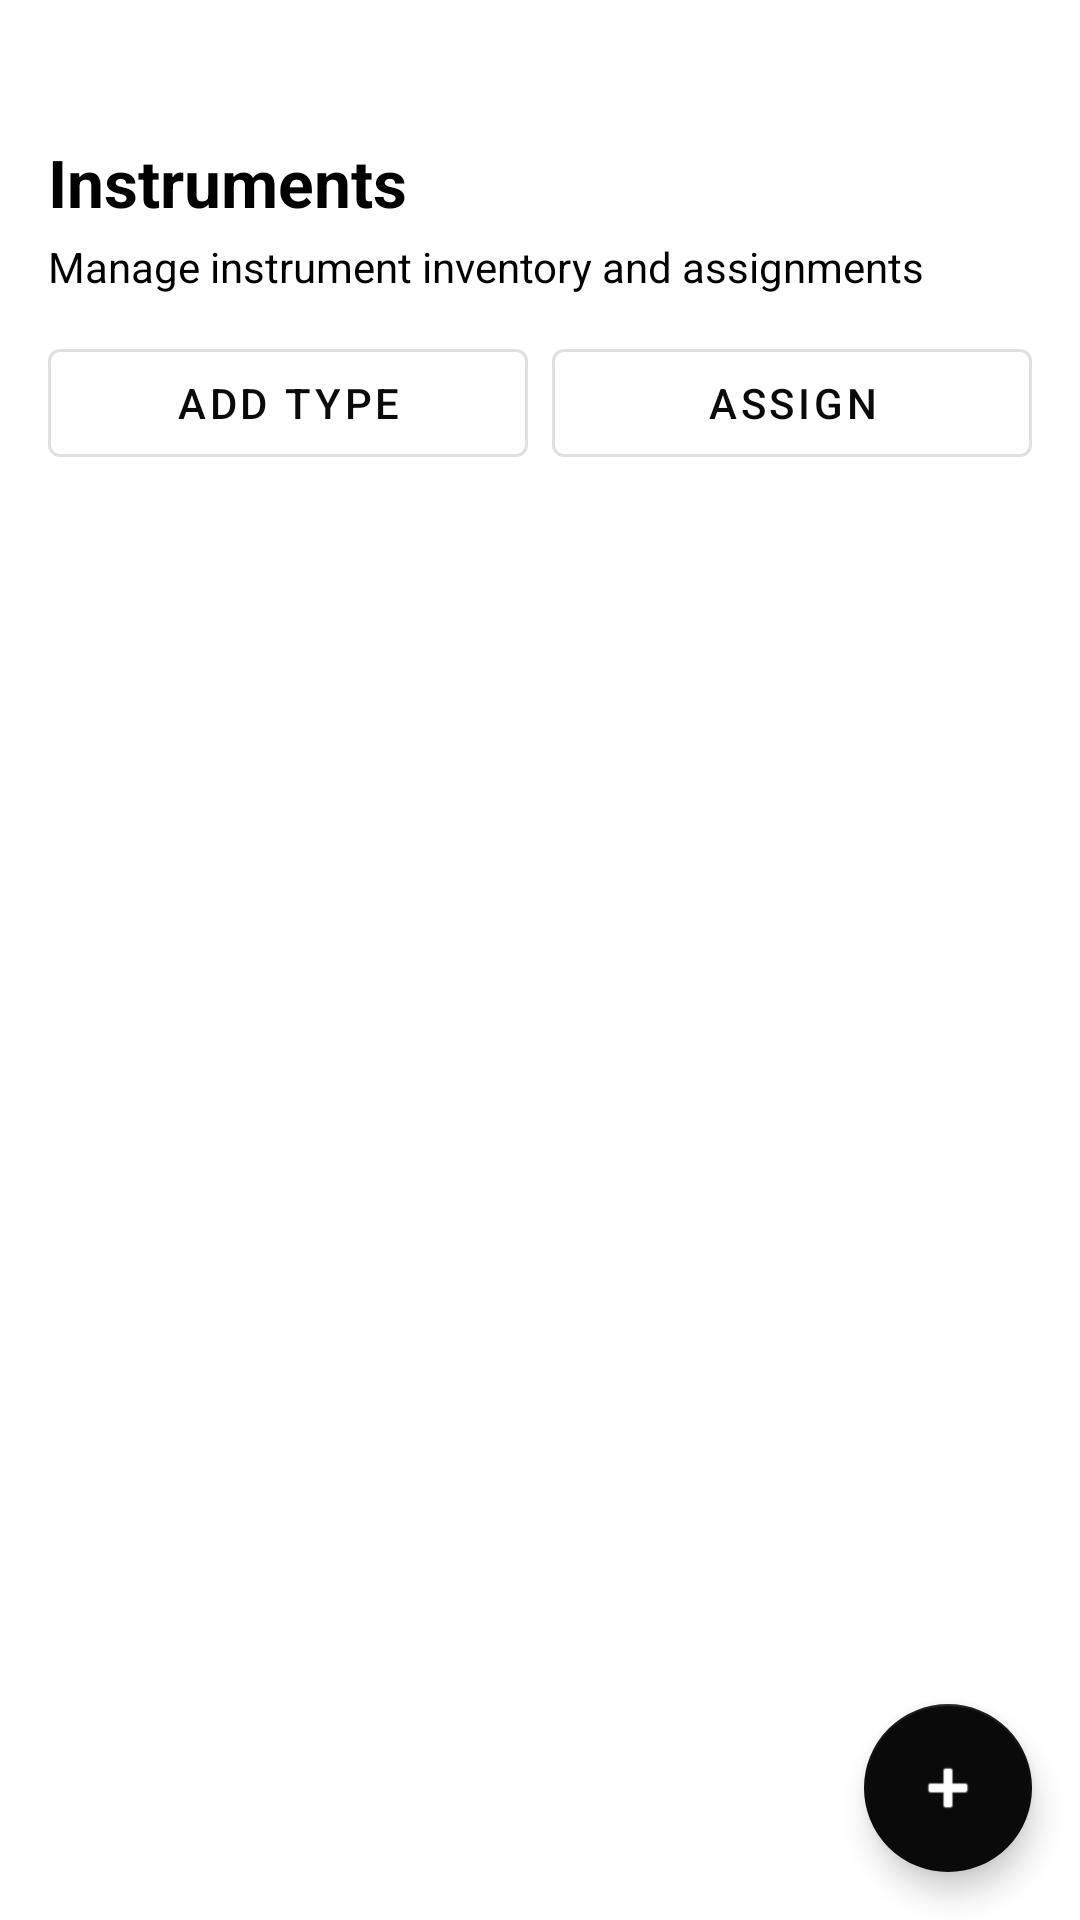

Screen size 1080*1920. Icon name, then its box in pixels as [left=x1, top=y1, right=x2, bottom=y2]:
Add Instrument: [left=864, top=1704, right=1032, bottom=1872]
